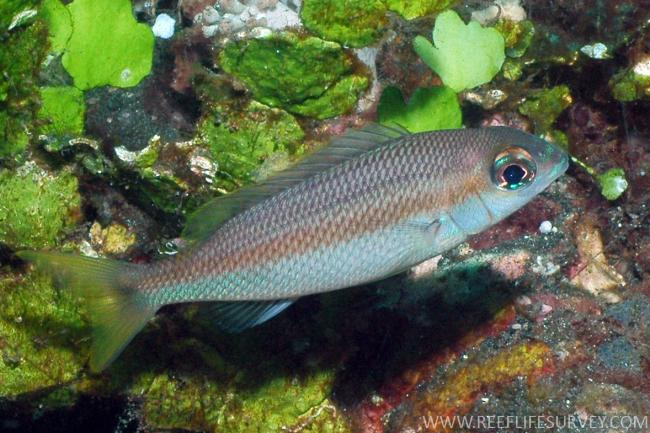fish: (20, 118, 570, 375)
